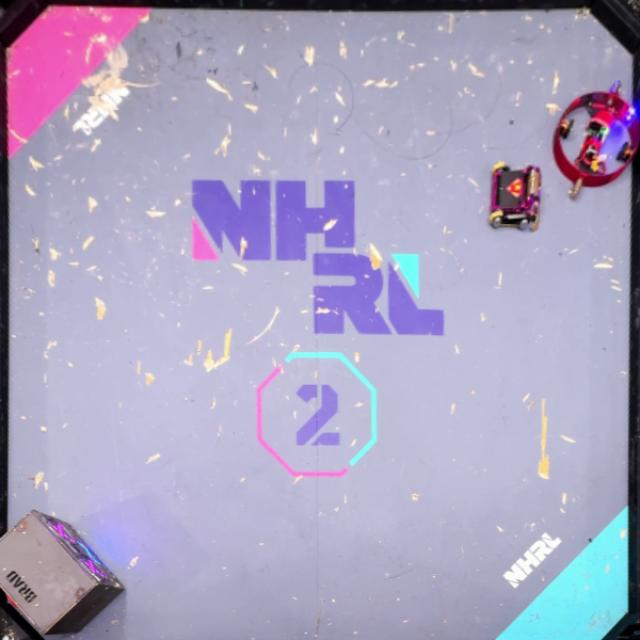housebot: (0, 508, 127, 636)
robot: (551, 80, 640, 197), (488, 161, 542, 233)
